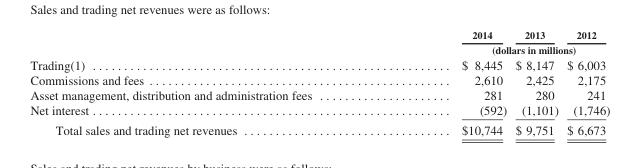table: (29, 28, 609, 137)
table column: (29, 28, 386, 137), (386, 28, 510, 137), (510, 28, 562, 137), (562, 28, 609, 137)
table column header: (29, 28, 609, 56)
table row: (29, 119, 609, 137), (29, 102, 609, 119), (29, 71, 609, 87), (29, 56, 609, 71), (29, 87, 609, 102), (29, 28, 609, 42), (29, 42, 609, 56)
table spanning cell: (386, 42, 609, 56)
